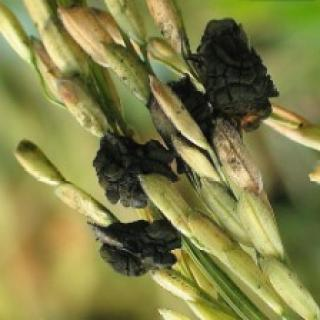Gosong-Palsu: (186, 17, 277, 190), (93, 131, 169, 207), (89, 220, 180, 274)
